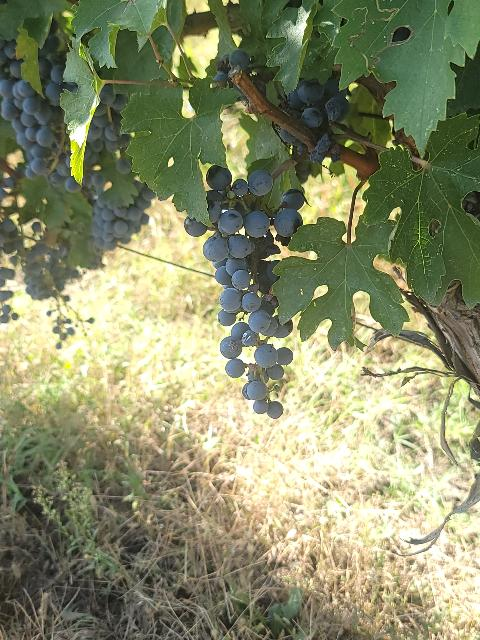grapes: (185, 165, 305, 419)
